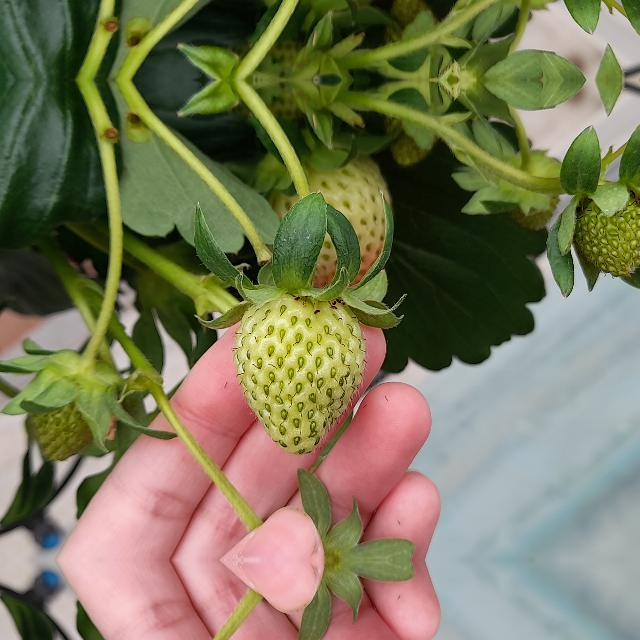Health_25: (233, 294, 365, 454), (575, 195, 639, 279)
